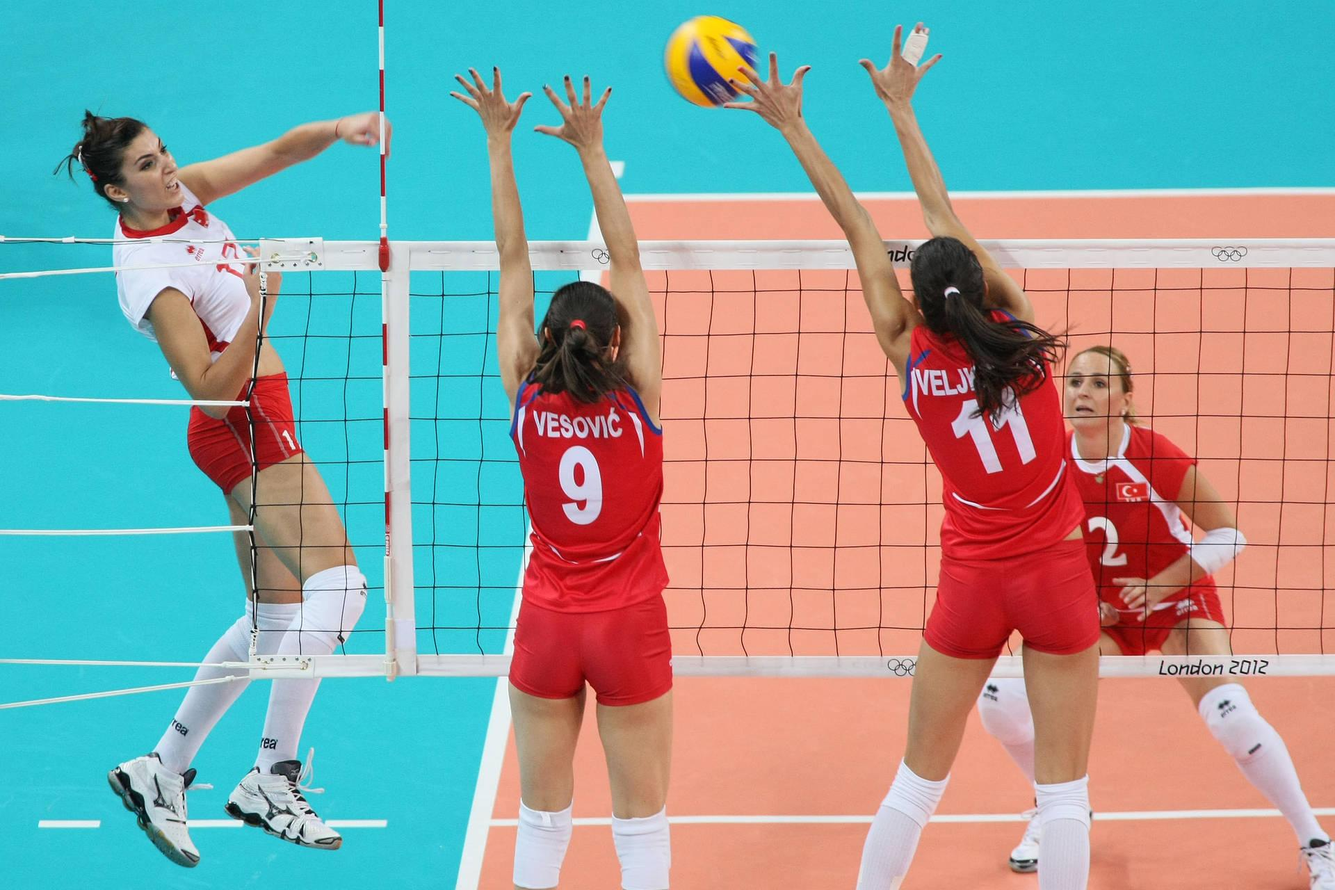ballon_volley: (662, 13, 760, 111)
